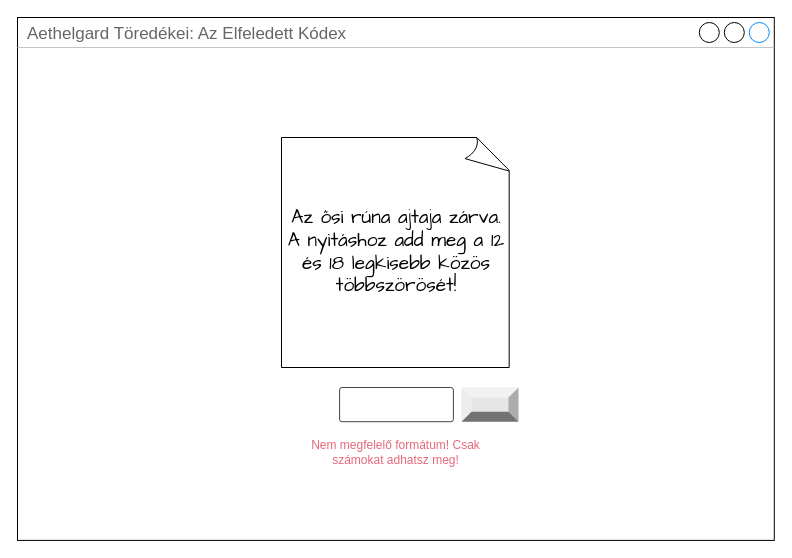
The diagram is 792 pixels wide and 558 high, and some of its shapes have lost their labels. Here are the shapes that lost their labels. From the top down, the box of each, then its label:
(339, 386, 453, 422): Válasz...
(461, 387, 518, 421): Megoldás
